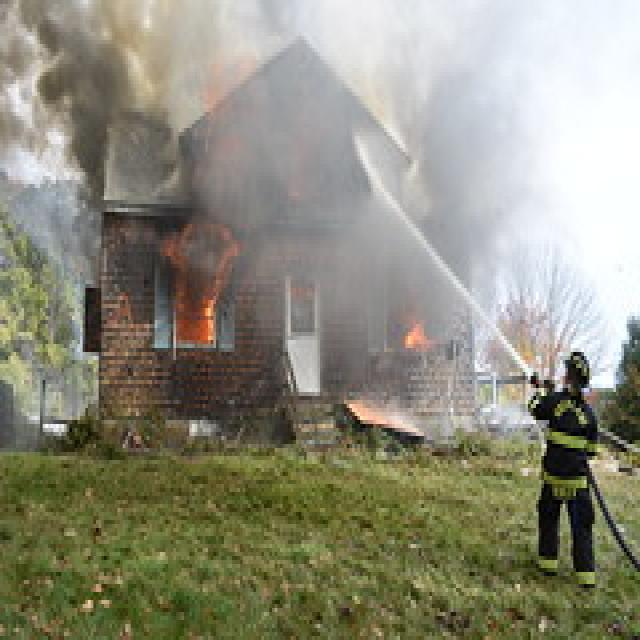Fire: (199, 276, 223, 352), (402, 316, 432, 352)
Smoke: (0, 2, 303, 244), (402, 17, 534, 268)
